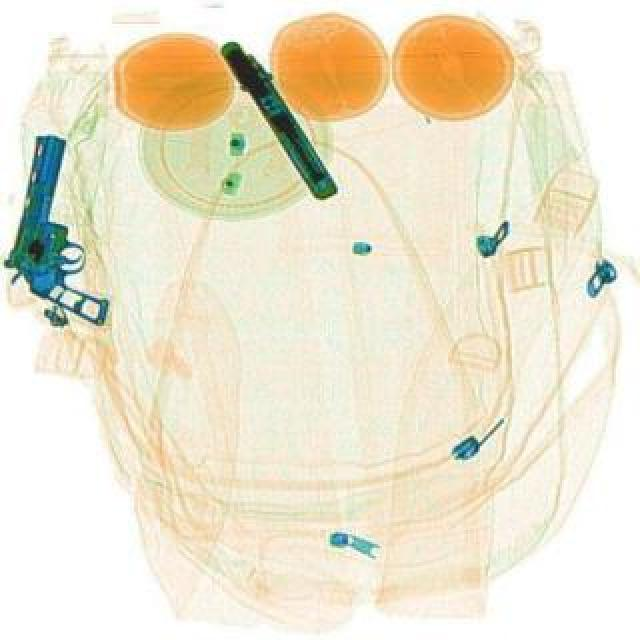gun: (4, 134, 148, 332), (218, 36, 350, 208)
